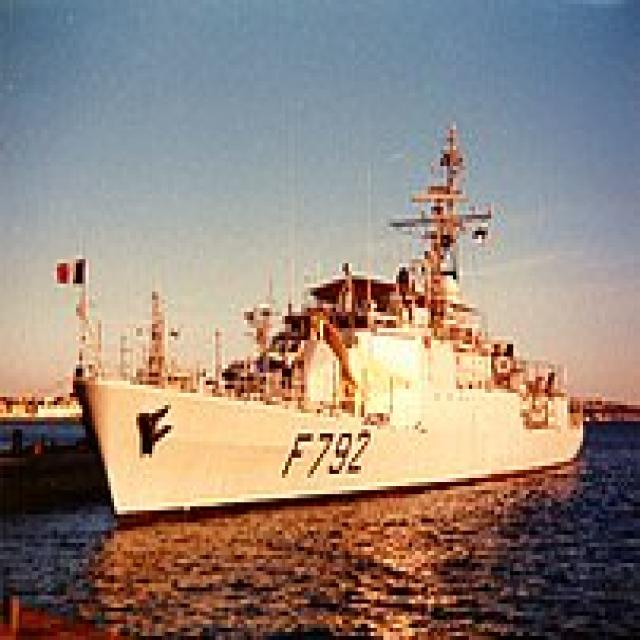Warship: (57, 114, 583, 526)
